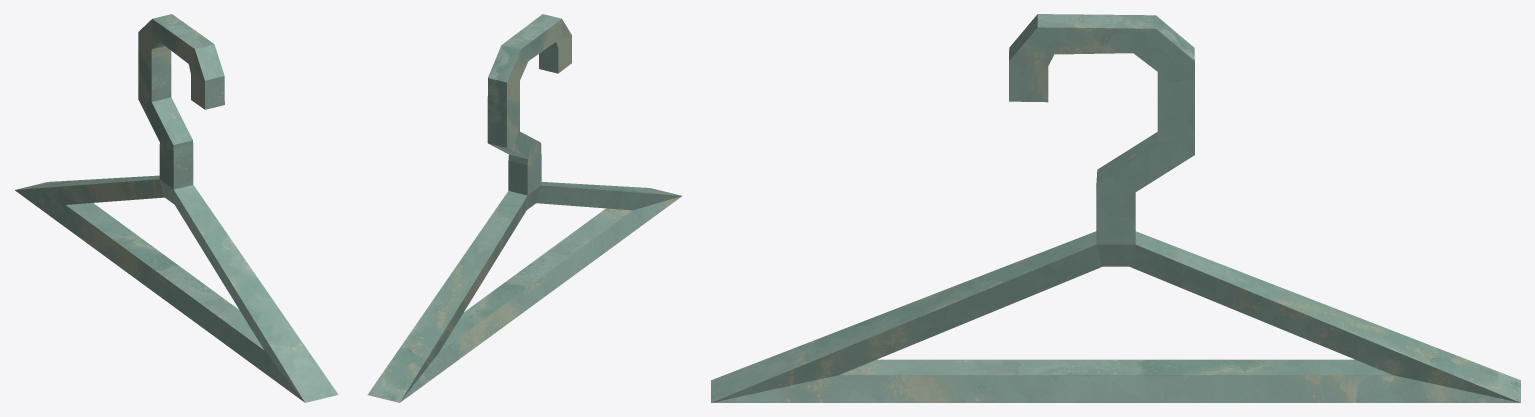
The model's file is C_Hanger.fbx.
The picture shows the model from 3 angles, left to right: view 1: azimuth 30°, elevation 25°; view 2: azimuth 150°, elevation 25°; view 3: azimuth 270°, elevation 25°; orthographic projection. The views are drawn at different scales.
Parts seen in each view (by area): view 1: Coat_hanger; view 2: Coat_hanger; view 3: Coat_hanger.
Part boxes in pixels (x1,y1,x2,y2): Coat_hanger: (15,14,338,402); Coat_hanger: (367,14,681,402); Coat_hanger: (711,14,1520,402).
Bounding box in the file's own units: 0.3729 × 2.85 × 5.63.
